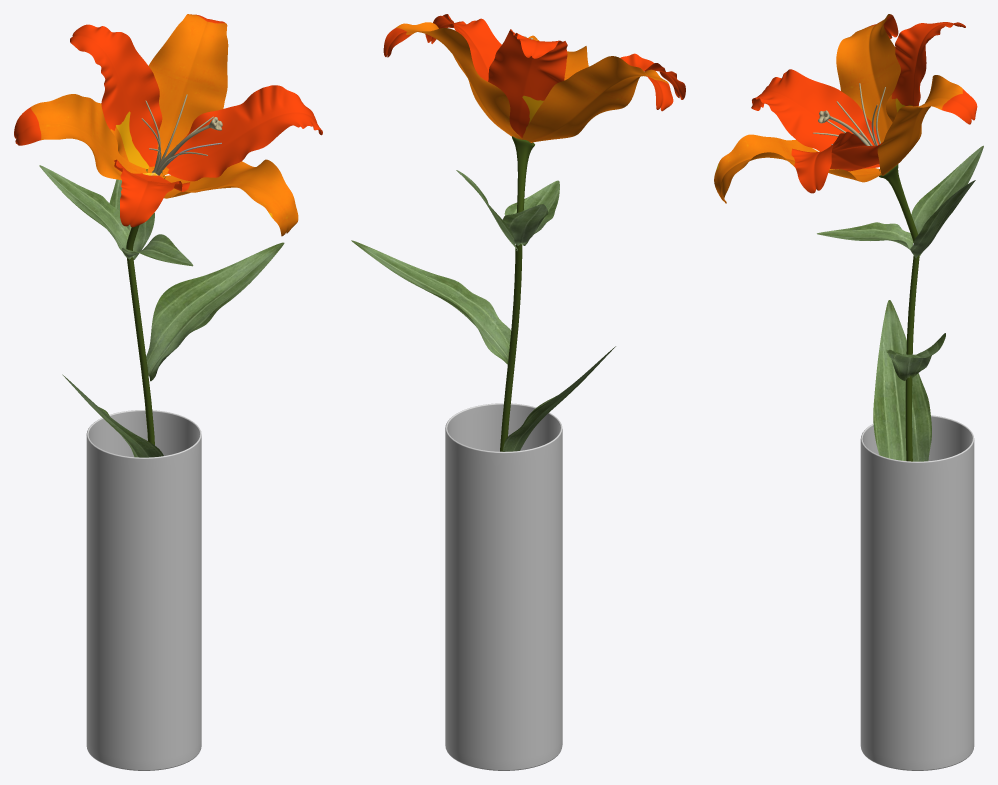
File: lily.gltf
3 views of the same model, side by side, from view 1: azimuth 30°, elevation 25°; view 2: azimuth 150°, elevation 25°; view 3: azimuth 270°, elevation 25° (orthographic). The views are drawn at different scales.
Visible parts, largest first — view 1: b_vase_2_170 2, flower_029, stems_with_leaves_007, stamen_007; view 2: b_vase_2_170 2, flower_029, stems_with_leaves_007; view 3: b_vase_2_170 2, flower_029, stems_with_leaves_007, stamen_007.
Boxes of the visible parts, x1,y1,x2,y2 form: b_vase_2_170 2: [86, 410, 201, 770]; flower_029: [14, 14, 322, 236]; stems_with_leaves_007: [39, 165, 284, 457]; stamen_007: [141, 94, 222, 175]; b_vase_2_170 2: [445, 403, 562, 770]; flower_029: [383, 14, 685, 142]; stems_with_leaves_007: [351, 136, 615, 451]; b_vase_2_170 2: [860, 415, 974, 770]; flower_029: [714, 14, 977, 203]; stems_with_leaves_007: [817, 145, 983, 461]; stamen_007: [813, 83, 885, 164].
Size of the model in its own units: 0.1269 by 0.3 by 0.1036.
